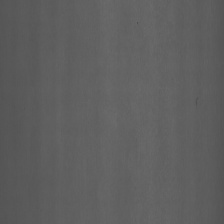inclusion: (194, 93, 202, 111), (134, 15, 142, 32)
